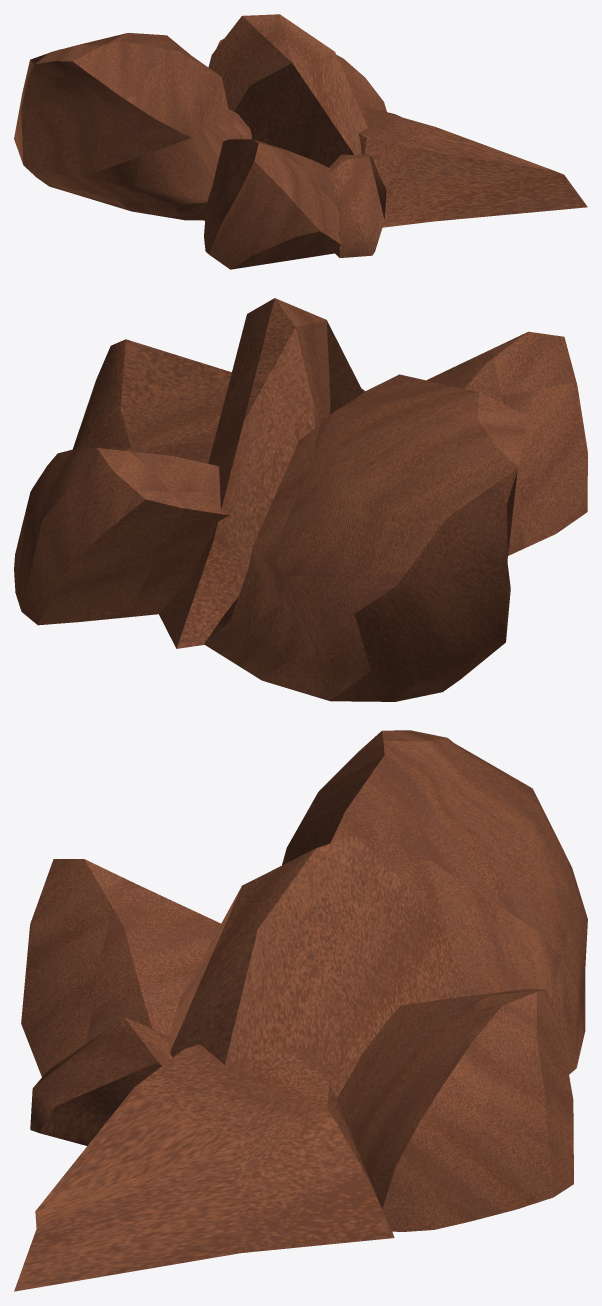
File: rockvarient1.fbx
3 views of the same model, one above another, from view 1: azimuth 30°, elevation 25°; view 2: azimuth 150°, elevation 25°; view 3: azimuth 270°, elevation 25° (orthographic). The views are drawn at different scales.
Parts seen in each view (by area): view 1: pCube3; view 2: pCube3; view 3: pCube3.
Boxes of the visible parts, box(x1,y1,x2,y2) form: pCube3: box(14, 14, 587, 269); pCube3: box(14, 298, 587, 701); pCube3: box(14, 730, 587, 1291).
Size of the model in its own units: 17.87 by 7.18 by 13.35.
